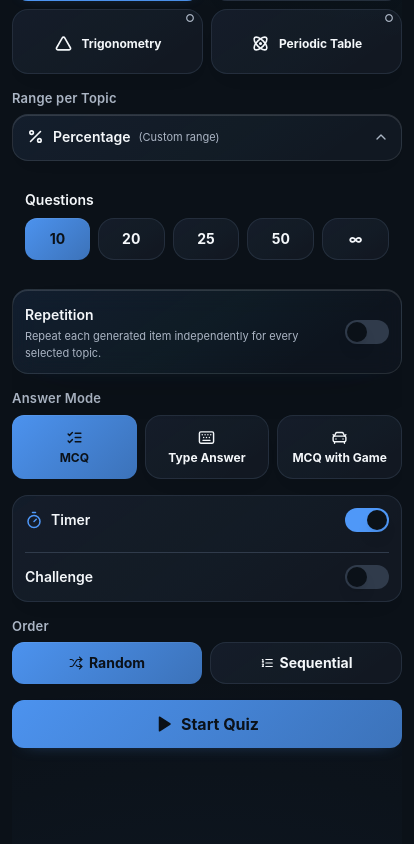
Test: Quiz Arena Percentage Custom range startup › persists the displayed defaults, accepts a valid edit, and launches the quiz
Earlier steps of the test are not shown.
(page scrolled)
Click the button "Start Quiz" at {"x": 207, "y": 724}, box [12,700,402,748]
(page scrolled)
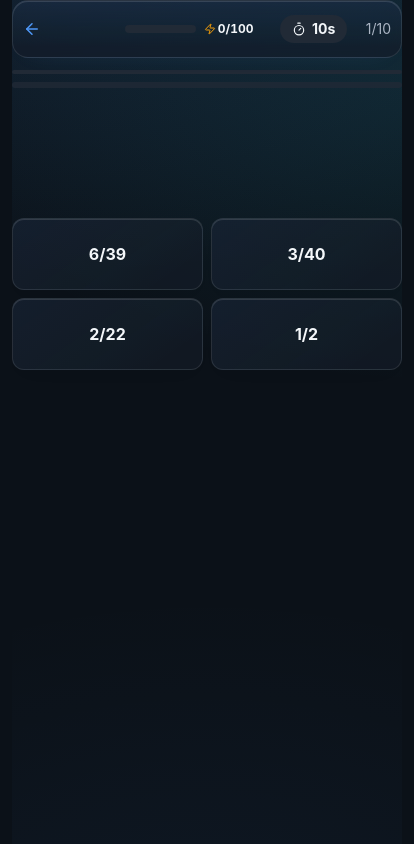
expect the element with class "mcq-options-grid" is shown: met, box [12,218,402,370]
expect the text "1/10" is shown: met, box [366,19,391,39]
